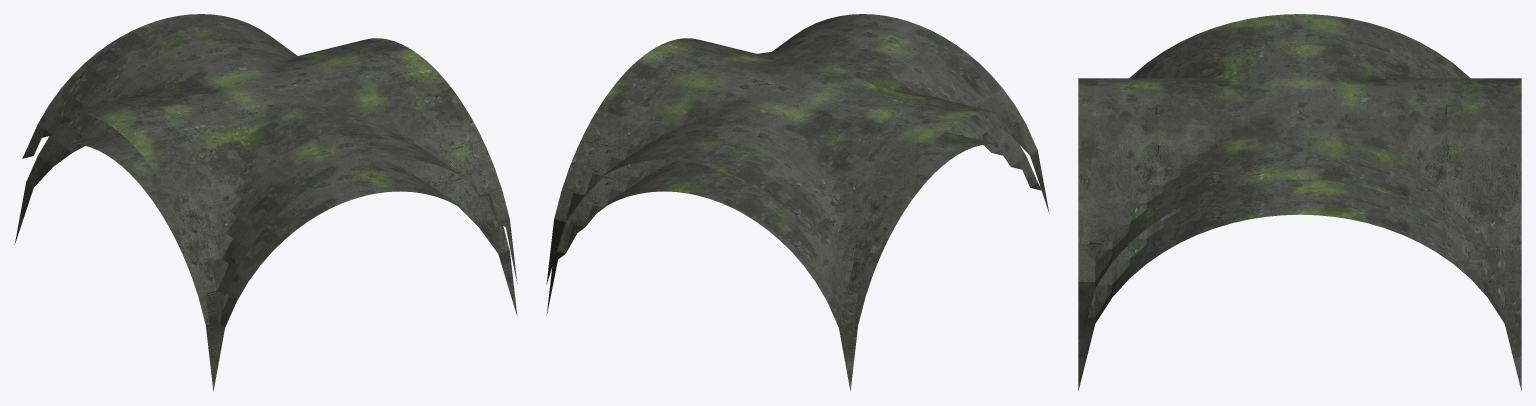
The model's file is ER_Voute_Aretes_3x3m4.gltf.
The picture shows the model from 3 angles, left to right: view 1: azimuth 30°, elevation 25°; view 2: azimuth 150°, elevation 25°; view 3: azimuth 270°, elevation 25°; orthographic projection. The views are drawn at different scales.
Parts seen in each view (by area): view 1: ER_Voute_Aretes_3x3m4_PS.001; view 2: ER_Voute_Aretes_3x3m4_PS.001; view 3: ER_Voute_Aretes_3x3m4_PS.001.
Boxes of the visible parts, <box> form: ER_Voute_Aretes_3x3m4_PS.001: <box>14,14,517,391</box>; ER_Voute_Aretes_3x3m4_PS.001: <box>546,14,1049,391</box>; ER_Voute_Aretes_3x3m4_PS.001: <box>1078,14,1521,390</box>.
Bounding box in the file's own units: 3 × 1.8 × 3.4.
Materials: 1 (1 with a texture image).
